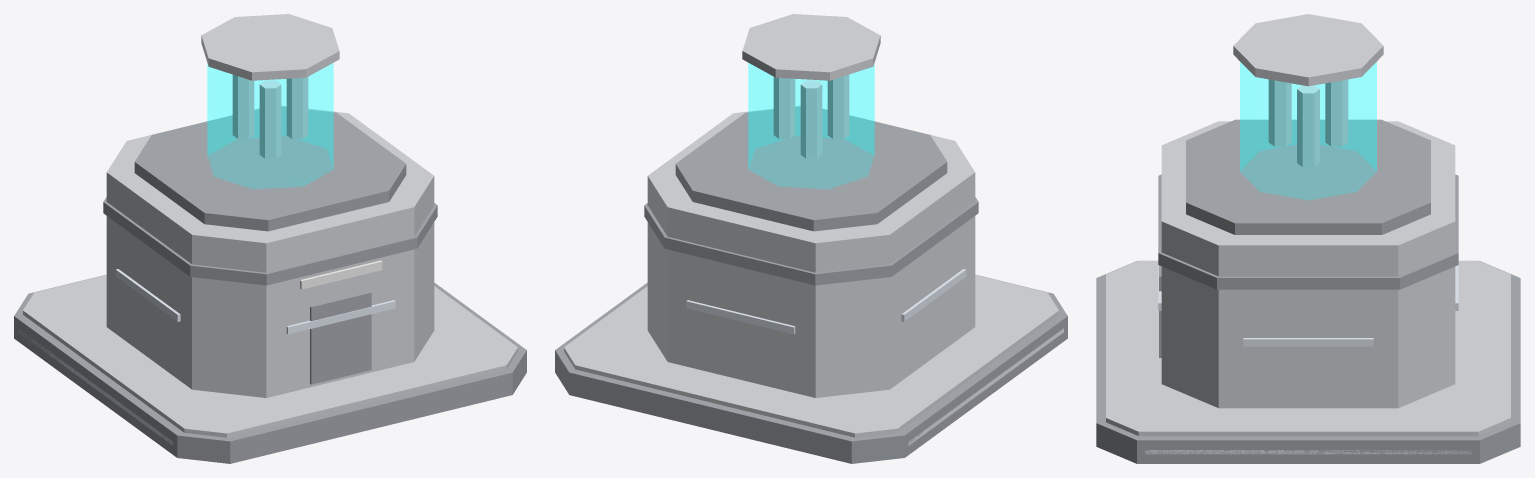
The model's file is Neutral_Corp_DataVault.fbx.
The picture shows the model from 3 angles, left to right: view 1: azimuth 30°, elevation 25°; view 2: azimuth 150°, elevation 25°; view 3: azimuth 270°, elevation 25°; orthographic projection. The views are drawn at different scales.
Visible parts, largest first — view 1: NDV_Block, NDV_BaseTop, NDV_Roof, NDV_Base, NDV_Glass, NDV_Cap, NDV_Band, NDV_Door, NDV_Core2, NDV_Core1, NDV_Core0, NDV_Slot3 (+3 smaller); view 2: NDV_Block, NDV_BaseTop, NDV_Roof, NDV_Base, NDV_Glass, NDV_Cap, NDV_Band, NDV_Core1, NDV_Core2, NDV_Core0, NDV_Slot1, NDV_BaseGlow-1 (+1 smaller); view 3: NDV_Block, NDV_BaseTop, NDV_Roof, NDV_Glass, NDV_Base, NDV_Cap, NDV_Band, NDV_Core0, NDV_Core1, NDV_Core2, NDV_BaseGlow1, NDV_Slot0.
Part boxes in pixels (x1,y1,x2,y2): NDV_Block: [106, 105, 434, 397]; NDV_BaseTop: [23, 275, 517, 437]; NDV_Roof: [134, 106, 406, 231]; NDV_Base: [14, 274, 526, 463]; NDV_Glass: [207, 63, 333, 188]; NDV_Cap: [201, 14, 339, 80]; NDV_Band: [103, 197, 437, 285]; NDV_Door: [310, 292, 371, 384]; NDV_Core2: [259, 80, 281, 158]; NDV_Core1: [232, 74, 254, 138]; NDV_Core0: [286, 77, 308, 138]; NDV_Slot3: [286, 300, 395, 334]; NDV_Block: [647, 105, 975, 397]; NDV_BaseTop: [564, 275, 1058, 437]; NDV_Roof: [675, 106, 947, 231]; NDV_Base: [555, 274, 1067, 463]; NDV_Glass: [748, 63, 874, 188]; NDV_Cap: [742, 14, 880, 80]; NDV_Band: [644, 197, 978, 285]; NDV_Core1: [800, 80, 822, 158]; NDV_Core2: [827, 74, 849, 138]; NDV_Core0: [773, 77, 795, 138]; NDV_Slot1: [686, 300, 795, 334]; NDV_BaseGlow-1: [908, 328, 1063, 445]; NDV_Block: [1161, 121, 1455, 408]; NDV_BaseTop: [1106, 260, 1510, 436]; NDV_Roof: [1186, 119, 1430, 234]; NDV_Glass: [1240, 62, 1376, 199]; NDV_Base: [1096, 261, 1520, 463]; NDV_Cap: [1233, 14, 1383, 86]; NDV_Band: [1158, 174, 1458, 289]; NDV_Core0: [1297, 85, 1319, 167]; NDV_Core1: [1325, 79, 1348, 146]; NDV_Core2: [1268, 79, 1291, 146]; NDV_BaseGlow1: [1145, 450, 1471, 454]; NDV_Slot0: [1243, 338, 1373, 346].
Bounding box in the file's own units: 2.6 × 2.22 × 2.6.
